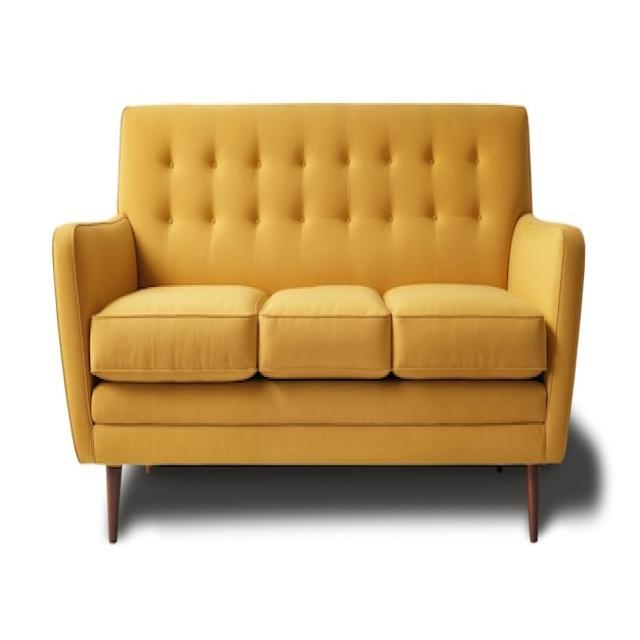sofa: (51, 100, 586, 544)
